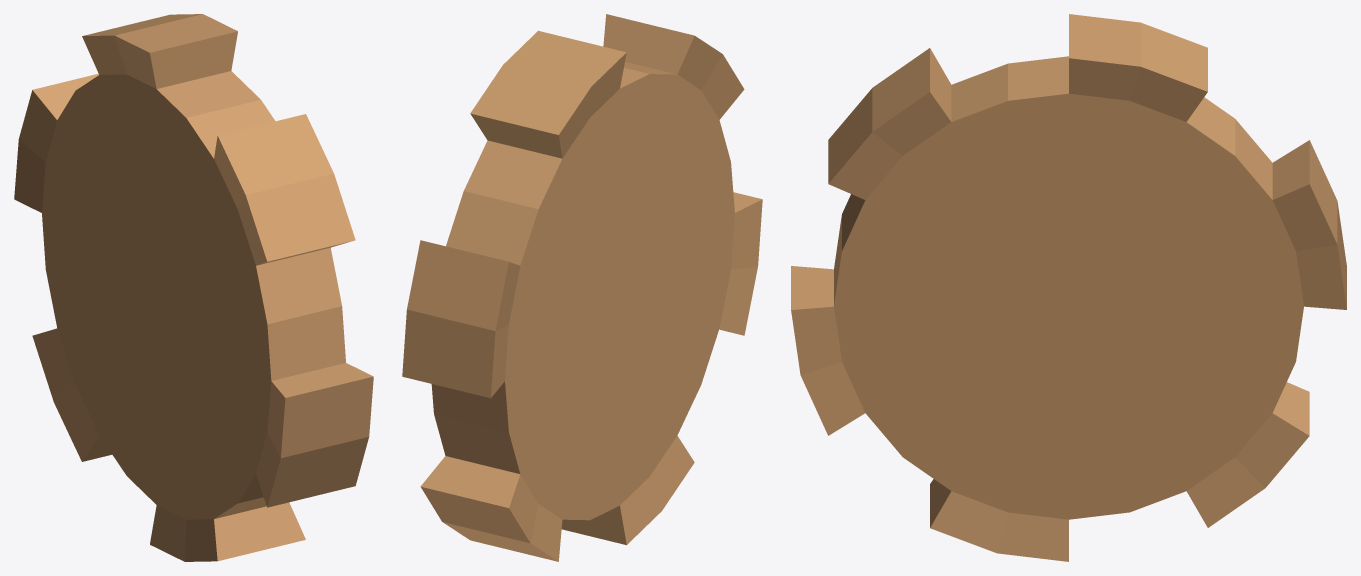
Rendered from gear.fbx.
3 renders of one model, left to right at view 1: azimuth 30°, elevation 25°; view 2: azimuth 150°, elevation 25°; view 3: azimuth 270°, elevation 25°, orthographic. The views are drawn at different scales.
Visible parts, largest first — view 1: Cylinder; view 2: Cylinder; view 3: Cylinder.
Part boxes in pixels (<box>): Cylinder: <box>14,14,373,561</box>; Cylinder: <box>402,14,762,561</box>; Cylinder: <box>791,14,1346,561</box>.
Bounding box in the file's own units: 44.48 × 236 × 236.
